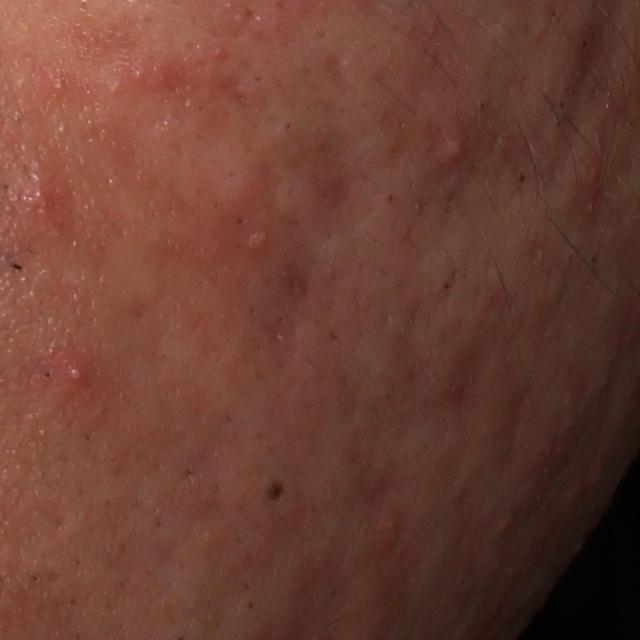atrophic_scar: (324, 52, 350, 88)
nevus: (261, 472, 288, 518)
papule: (13, 167, 63, 223), (150, 47, 198, 98), (374, 504, 410, 565), (435, 120, 475, 173), (240, 217, 282, 257), (578, 155, 605, 206)
